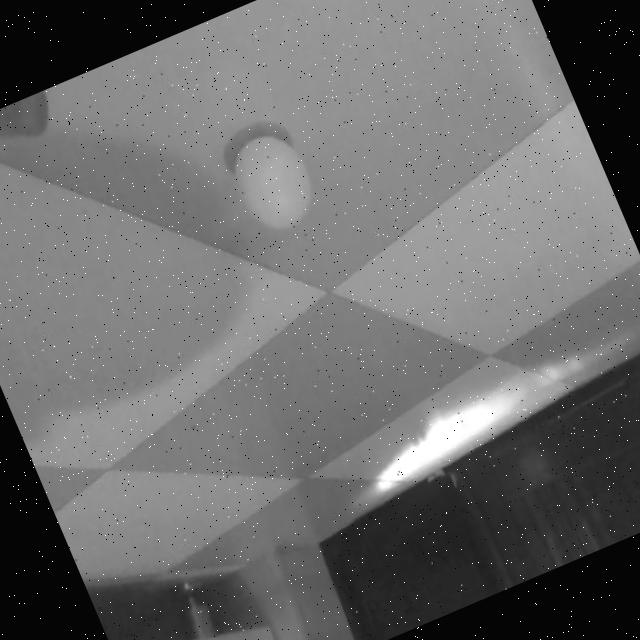ping-pong-ball: (220, 123, 326, 241)
